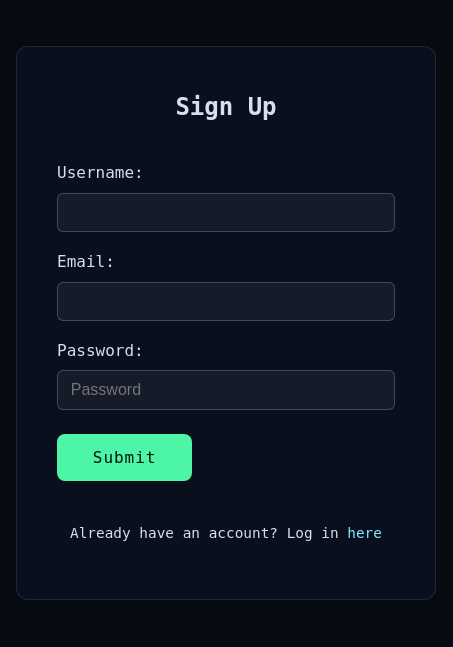
Test: Signup Page › shows error when email is invalid
Step 1. Type "notanemail" into the field labelled "Email:" → (226,301), box [57,282,395,321]
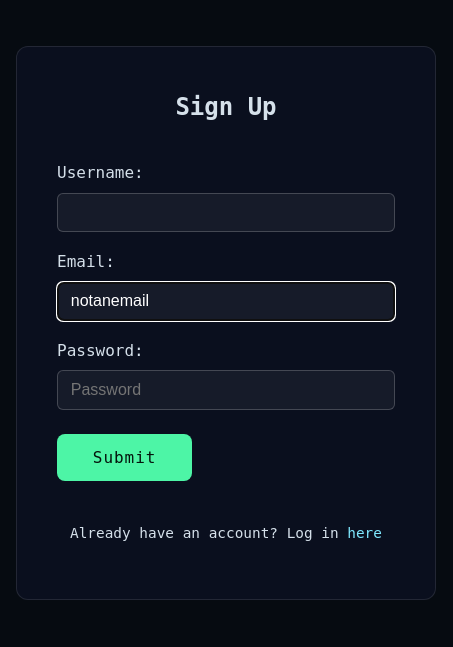
Step 2. Type "12345678!" into the password field labelled "Password:" → (226,390), box [57,370,395,410]
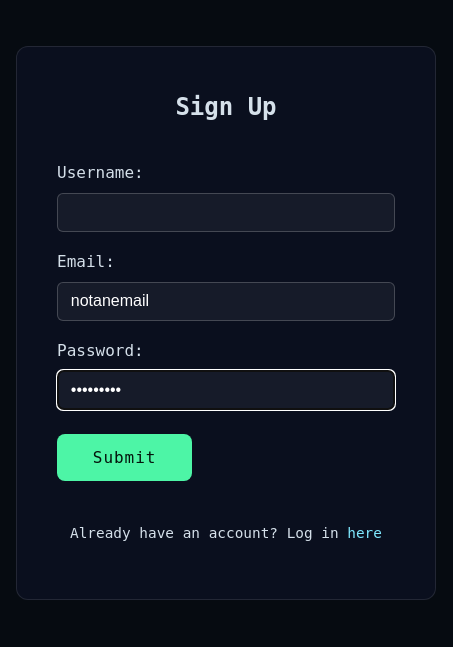
Step 3. Type "testuser" into the field labelled "Username:" → (226,212), box [57,193,395,232]
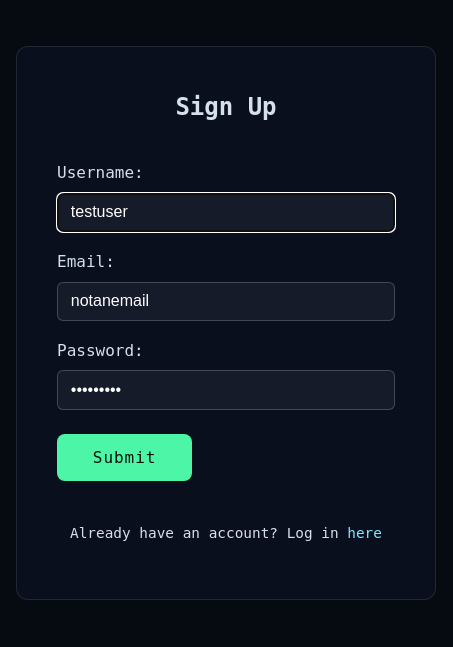
Step 4. Click the button → (125,457), box [57,434,192,481]
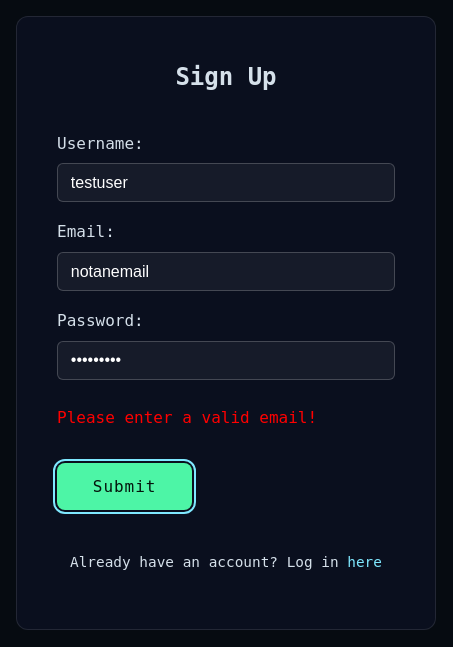
Check: the text "Please enter a valid email!" is shown, box [57,408,317,427]
